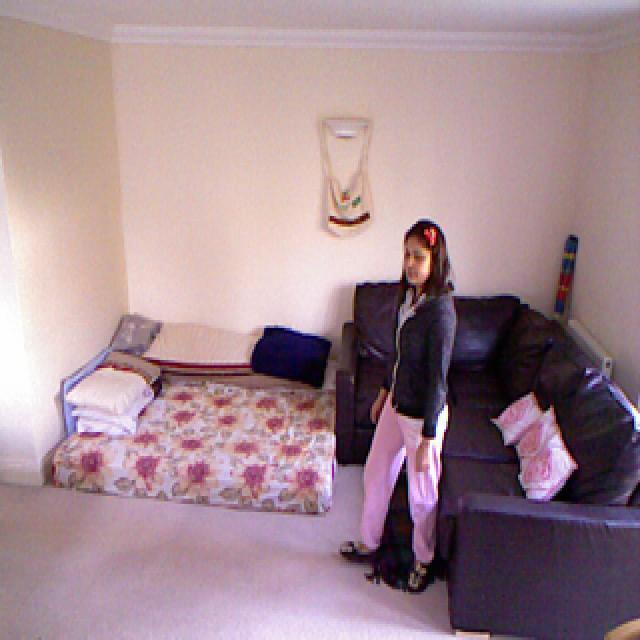walking: (337, 200, 461, 600)
